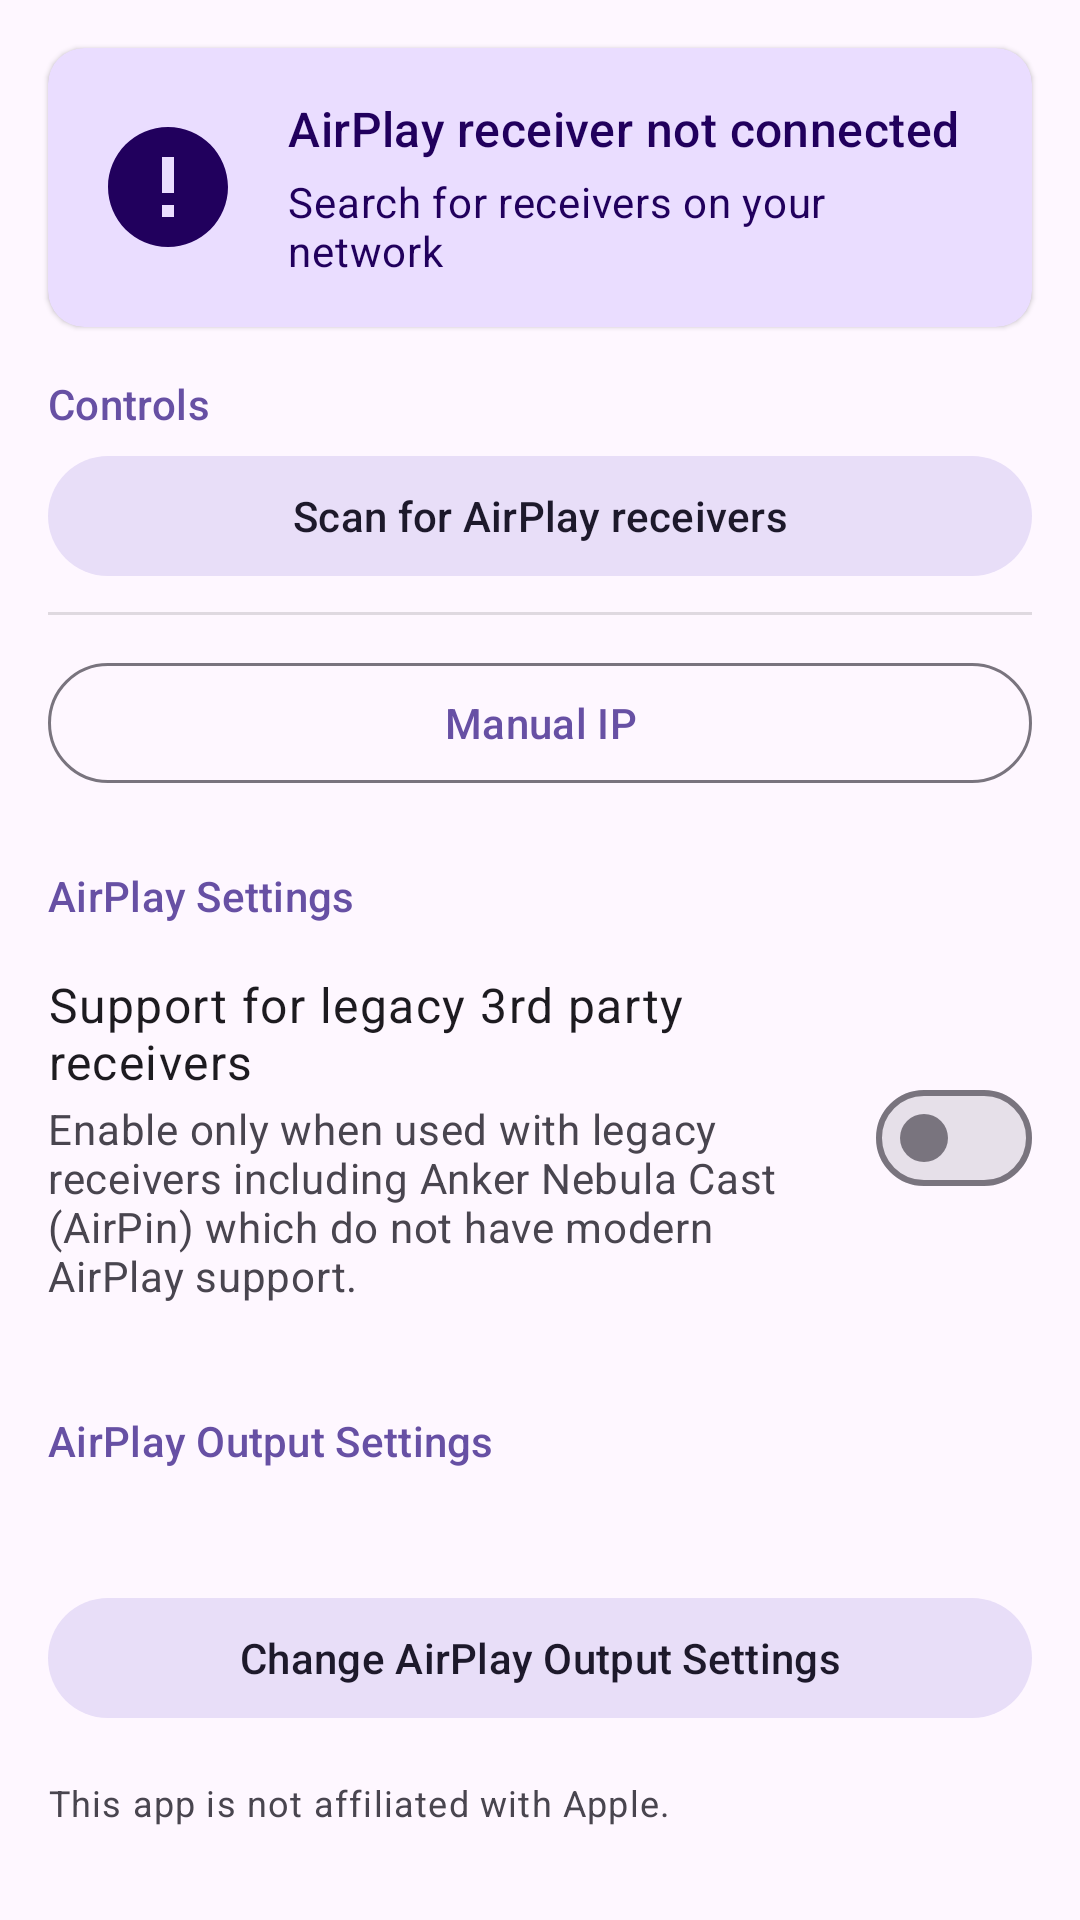

Icon bounding boxes for this 1080 × 1920 phone screenshot, format (x1, y1, x2, y2):
error: (108, 127, 228, 247)
